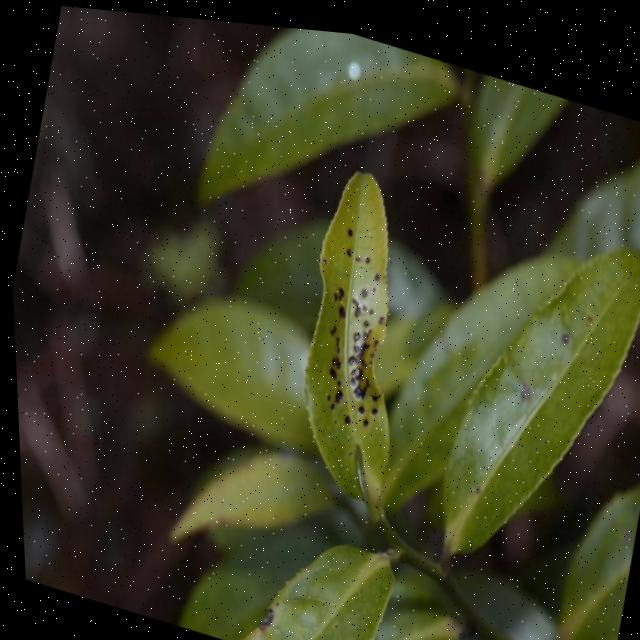Tea red scab: (287, 205, 423, 424)
